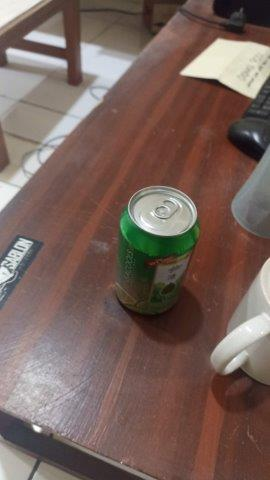kaleng: (117, 186, 202, 320)
